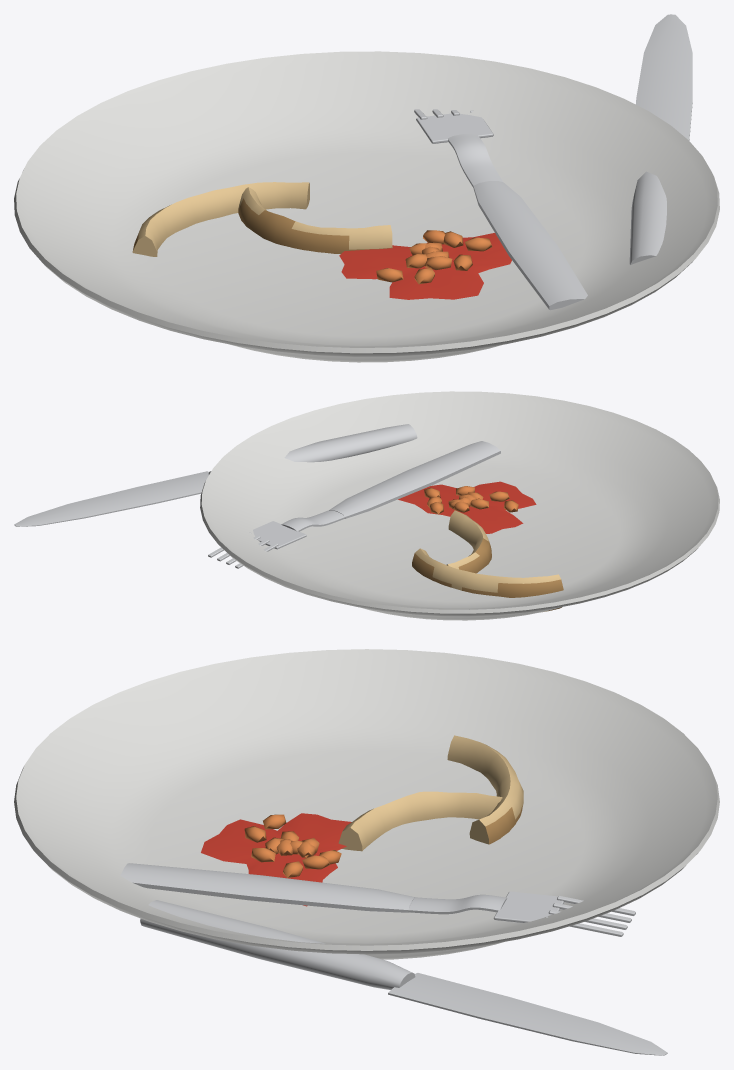
Rendered from kitchen_plate_leftovers_a.fbx.
3 views of the same model, one above another, from view 1: azimuth 30°, elevation 25°; view 2: azimuth 150°, elevation 25°; view 3: azimuth 270°, elevation 25° (orthographic). The views are drawn at different scales.
Visible parts, largest first — view 1: kitchen_plate_leftovers_a; view 2: kitchen_plate_leftovers_a; view 3: kitchen_plate_leftovers_a.
Part boxes in pixels (bbox=[...]): kitchen_plate_leftovers_a: bbox=[14, 14, 719, 362]; kitchen_plate_leftovers_a: bbox=[14, 391, 719, 620]; kitchen_plate_leftovers_a: bbox=[14, 649, 719, 1055].
Size of the model in its own units: 0.3262 by 0.03 by 0.2616.
